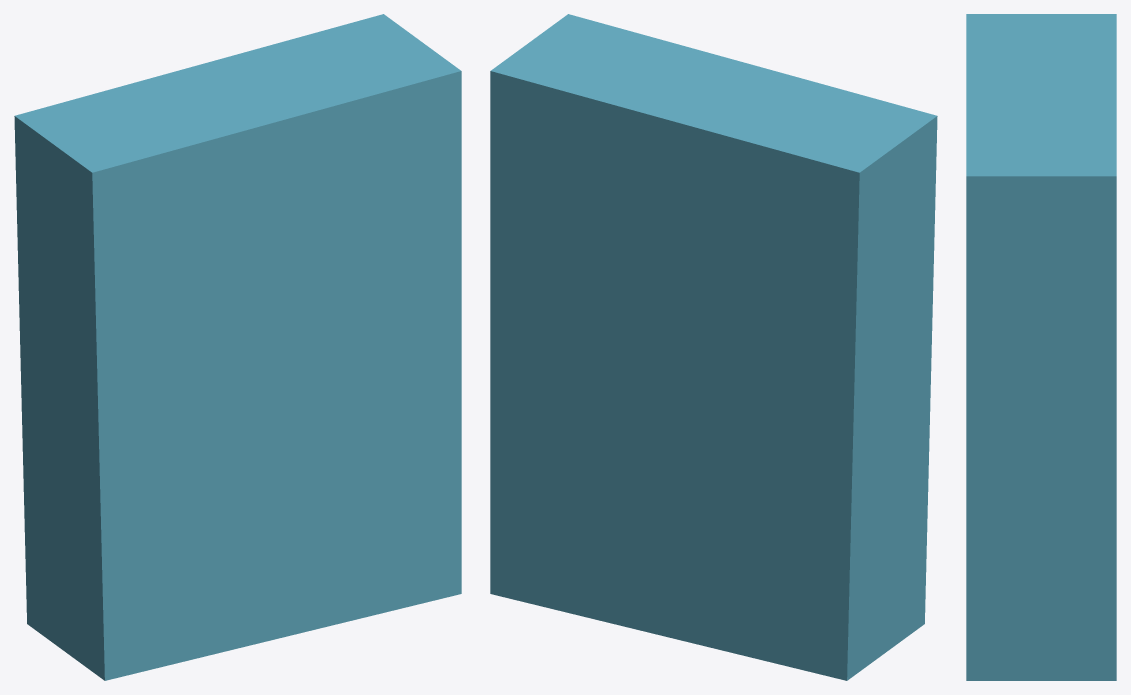
The picture shows the model from 3 angles, left to right: view 1: azimuth 30°, elevation 25°; view 2: azimuth 150°, elevation 25°; view 3: azimuth 270°, elevation 25°; orthographic projection. The views are drawn at different scales.
Visible parts, largest first — view 1: geometry_0; view 2: geometry_0; view 3: geometry_0.
Boxes of the visible parts, box(x1,y1,x2,y2) form: geometry_0: box(14, 14, 461, 680); geometry_0: box(490, 14, 937, 680); geometry_0: box(966, 14, 1116, 680).
Bounding box in the file's own units: 8.22 × 11.12 × 3.
